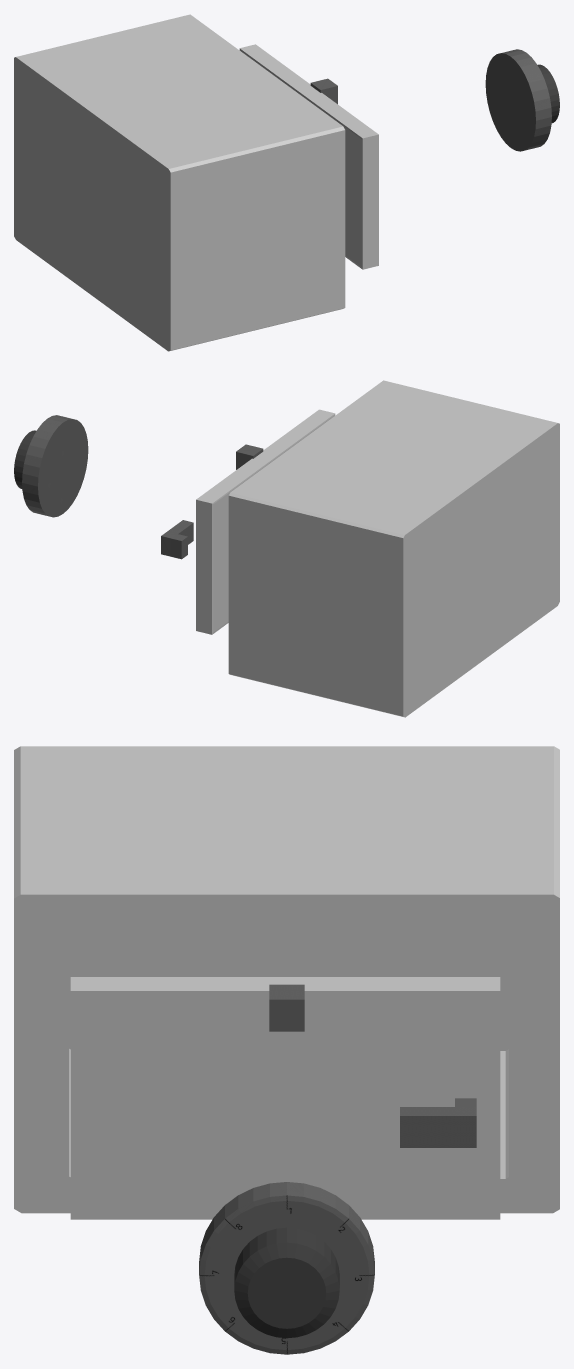
Rendered from CombinationSafe.fbx.
The picture shows the model from 3 angles, top to bottom: view 1: azimuth 30°, elevation 25°; view 2: azimuth 150°, elevation 25°; view 3: azimuth 270°, elevation 25°; orthographic projection. The views are drawn at different scales.
Visible parts, largest first — view 1: Cube, Cube.002, Cylinder, Cylinder.001; view 2: Cube, Cube.002, Cylinder, Cube.003, Cylinder.001; view 3: Cube, Cube.002, Cylinder, Cylinder.001, Cube.003, Cube.004.
Boxes of the visible parts, bbox=[...] form: Cube: bbox=[14, 14, 345, 351]; Cube.002: bbox=[239, 44, 378, 269]; Cylinder: bbox=[485, 49, 551, 151]; Cylinder.001: bbox=[537, 64, 559, 123]; Cube: bbox=[228, 380, 559, 717]; Cube.002: bbox=[196, 409, 335, 634]; Cylinder: bbox=[22, 415, 88, 517]; Cube.003: bbox=[161, 520, 193, 559]; Cylinder.001: bbox=[14, 430, 36, 488]; Cube: bbox=[14, 746, 559, 1213]; Cube.002: bbox=[70, 977, 500, 1219]; Cylinder: bbox=[199, 1182, 374, 1354]; Cylinder.001: bbox=[234, 1227, 339, 1338]; Cube.003: bbox=[400, 1098, 476, 1147]; Cube.004: bbox=[269, 984, 304, 1031].
Size of the model in its own units: 522 by 200 by 311.
